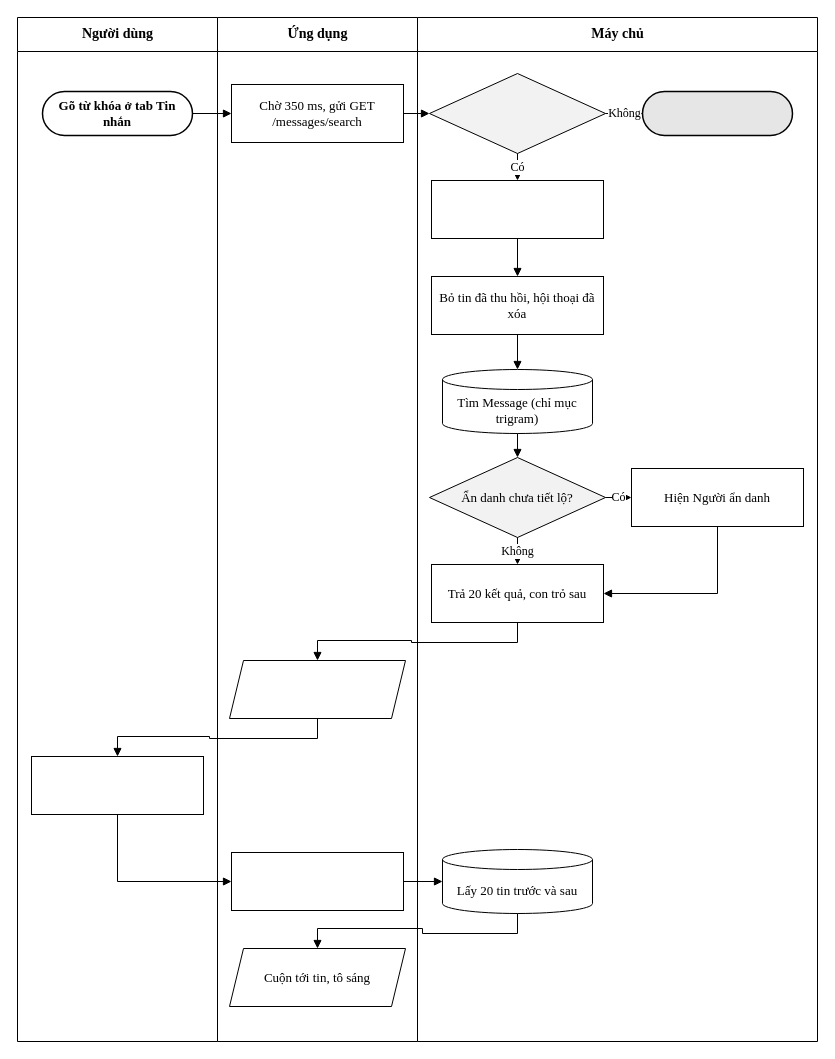
Some shapes in this 835 by 1059 pixel diagram are drawn without their labels. The box of each missing label's shape, as (x1, y1, x2, y2) in pixels:
Bấm một kết quả: (30, 756, 204, 814)
Chỉ hội thoại mình là thành viên: (430, 180, 604, 238)
Kết quả, từ khóa tô đậm: (228, 660, 406, 718)
Mở hội thoại tại tin đó: (230, 852, 404, 910)
Trả lỗi 400: (641, 90, 793, 136)
Từ khóa từ 2 ký tự?: (428, 72, 606, 154)
